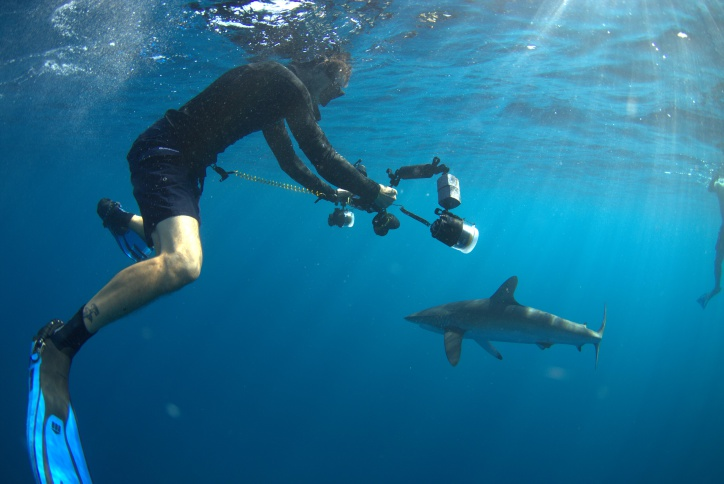Sedoso: (399, 272, 620, 376)
